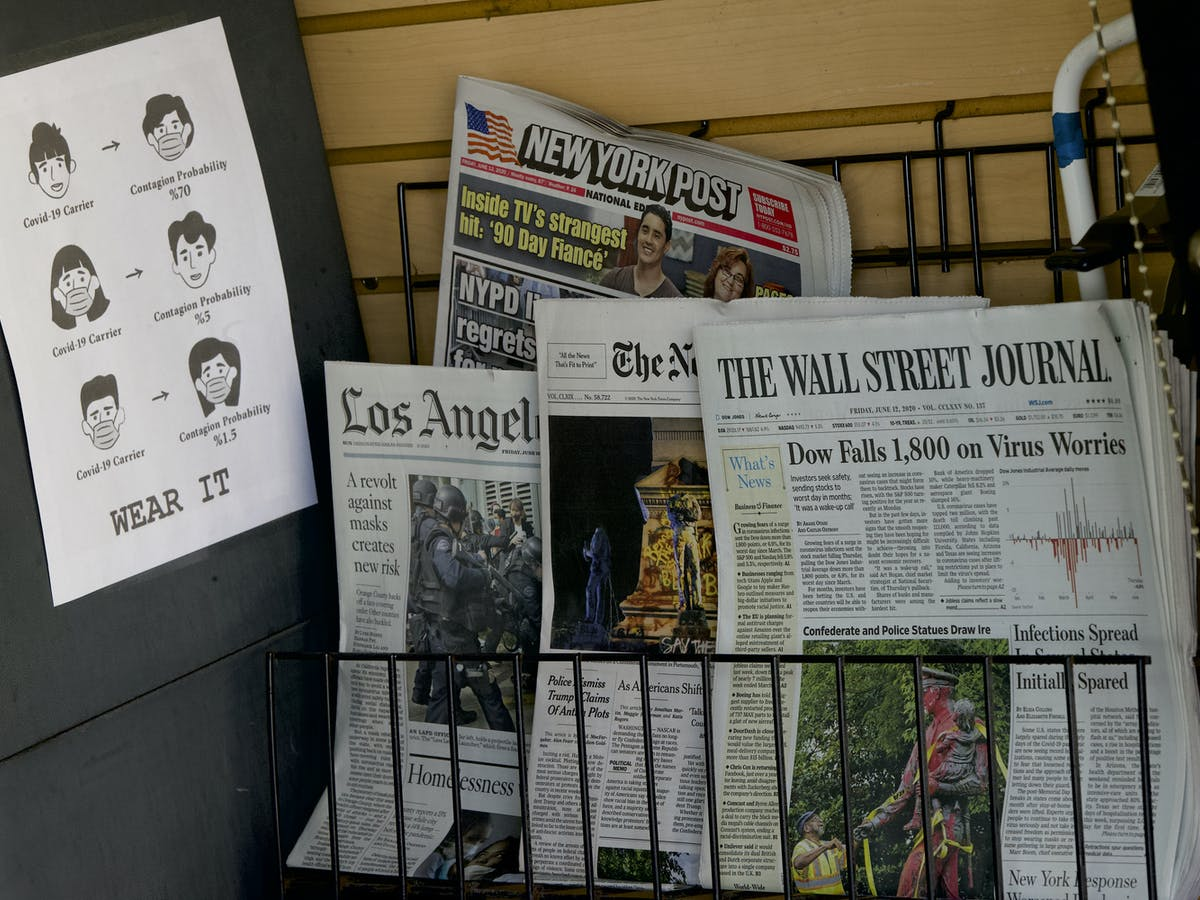news_paper: (657, 231, 1200, 873), (468, 209, 866, 900), (401, 50, 964, 519), (305, 337, 648, 900)
